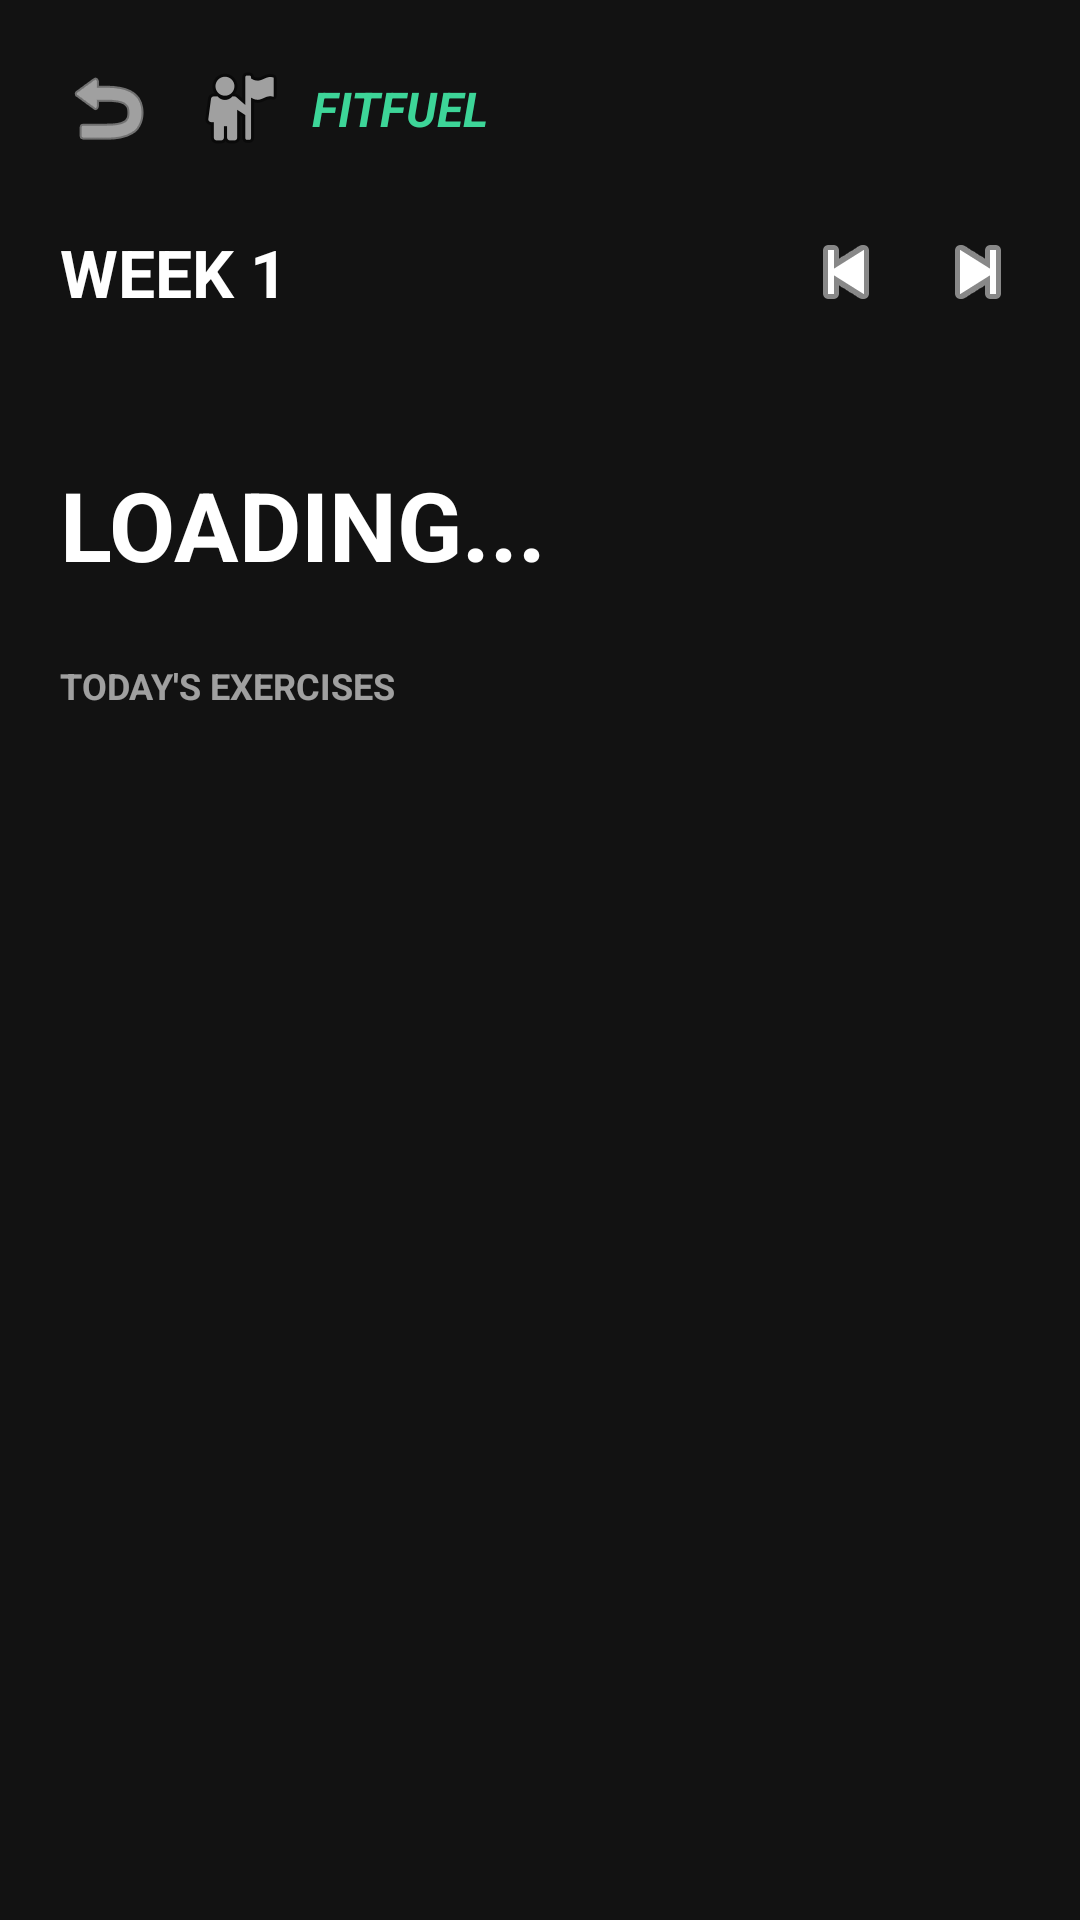

Locate icon controls on the screen. Image size 1080x1920, boxes as box(x1, y1, x2, y2).
myplaces: box(208, 75, 274, 141)
next: box(955, 245, 1001, 299)
previous: box(823, 245, 869, 299)
revert: box(75, 77, 144, 140)
